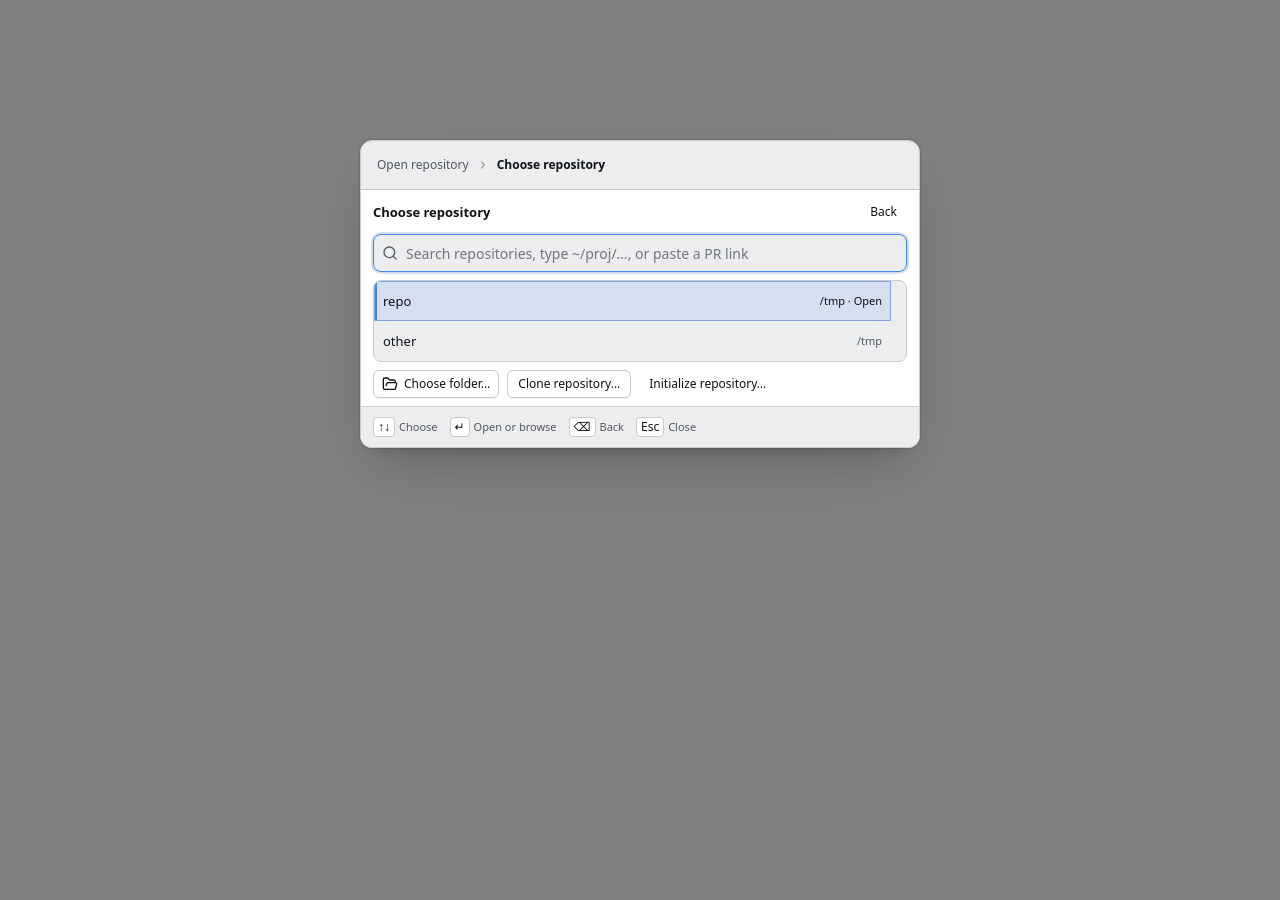
Test: AppCommandPalette › completes a directory without opening it
The image size is (1280, 900).
Type "/tmp/" into the field named "Repository name, directory path, or pull request URL".
click(652, 253); type("/tmp/")  # box x1=406 y1=235 x2=898 y2=271
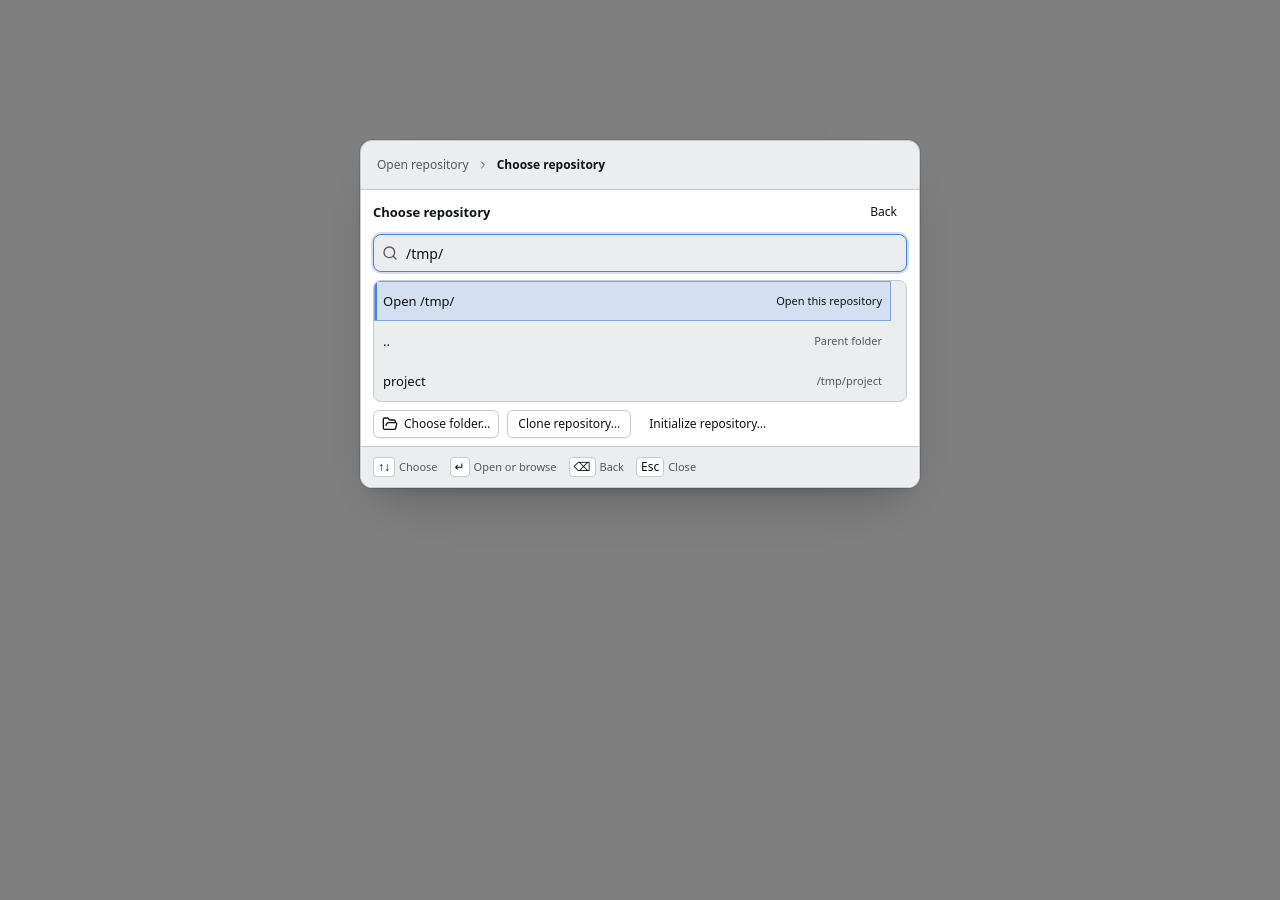
Expected: the button "project /tmp/project" is shown, x1=374 y1=361 x2=891 y2=401
Press Tab in the field named "Repository name, directory path, or pull request URL", box x1=406 y1=235 x2=898 y2=271
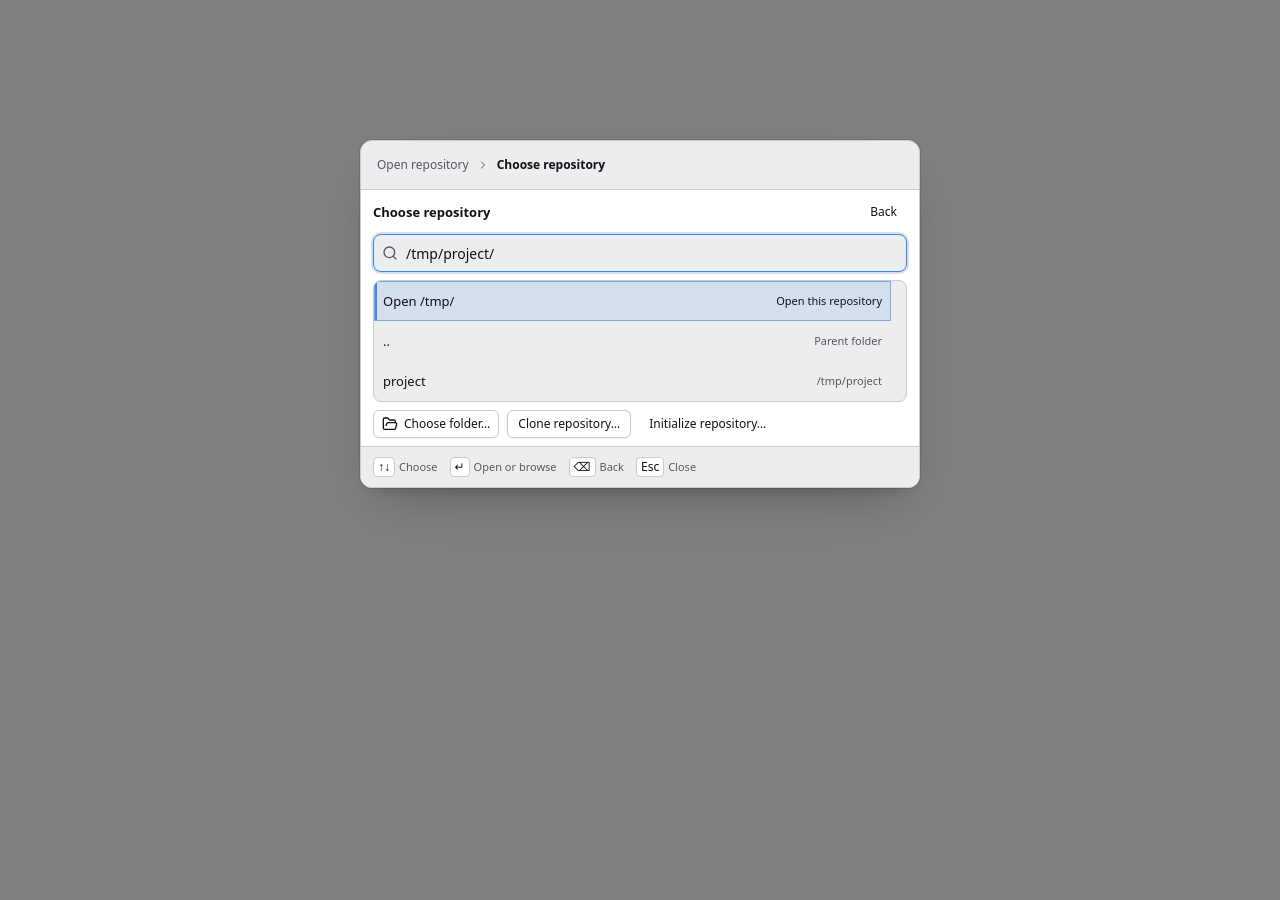
Expected: the field named "Repository name, directory path, or pull request URL" holds "/tmp/project/", x1=406 y1=235 x2=898 y2=271
